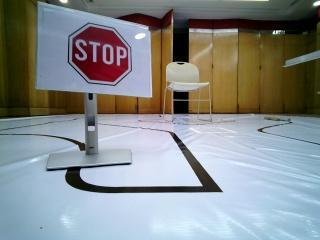stop: (29, 0, 152, 99)
